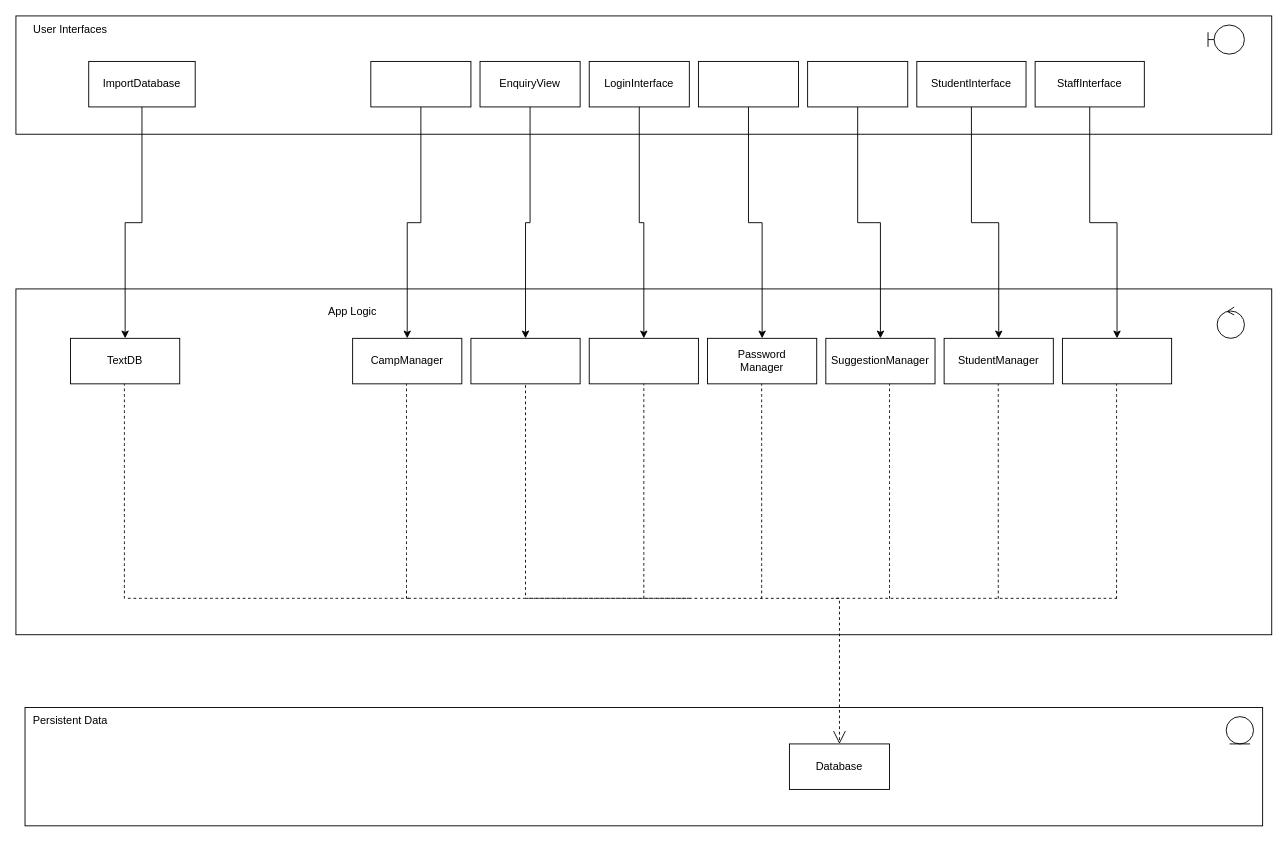
This 1288x842 diagram has some shape labels left out. The shapes that lost their labels are listed below. From the top down, each one's centre as x and y in pixels, then its label:
At [420,84]: "CampView".
At [748,84]: "ChangePassword View".
At [857,84]: "SuggestionView".
At [525,360]: "EnquiryManager".
At [643,360]: "LoginManager".
At [1117,360]: "StaffManager".
